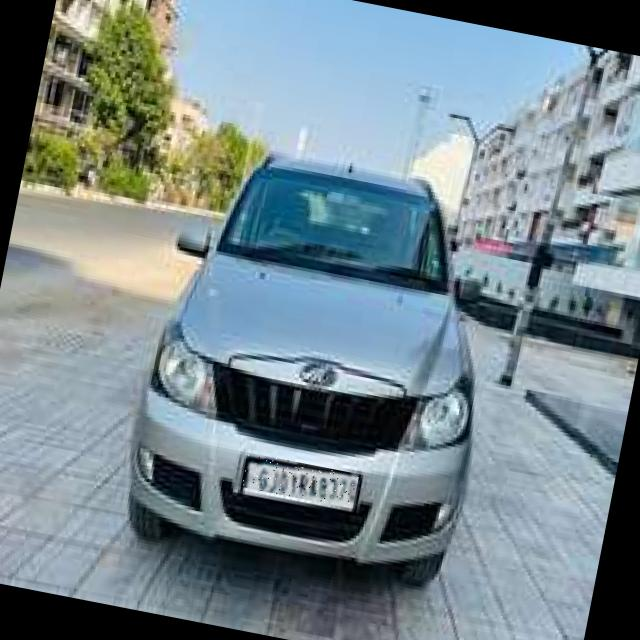Plate: (242, 454, 361, 510)
